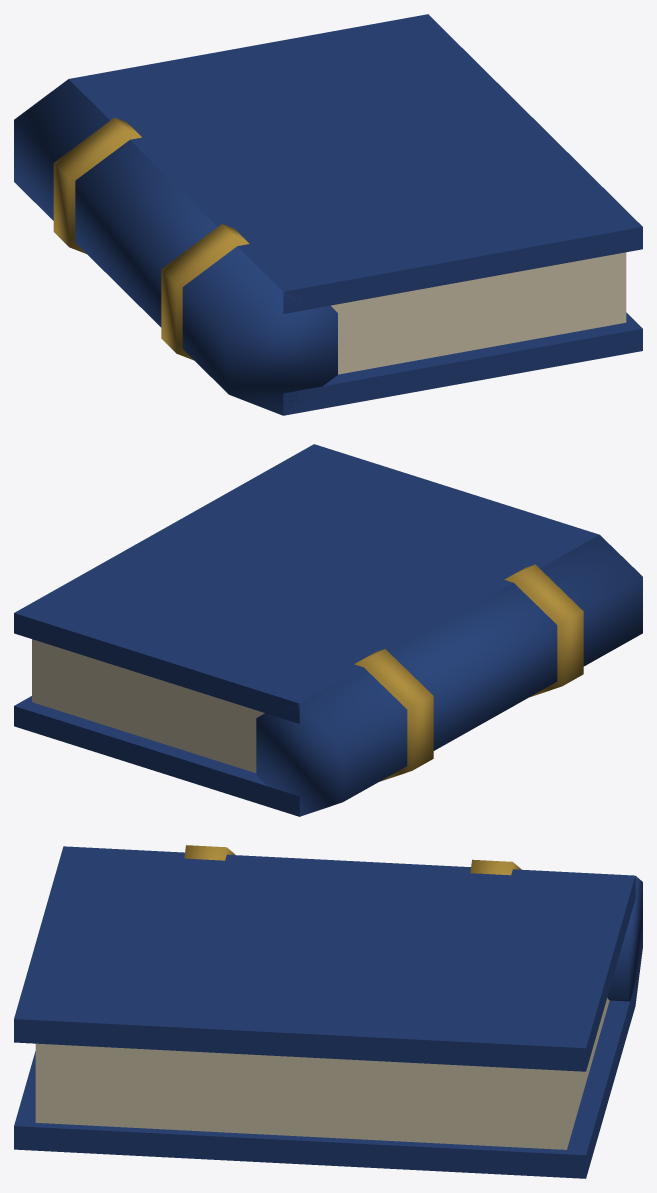
Rendered from book_v1.glb.
The picture shows the model from 3 angles, top to bottom: view 1: azimuth 30°, elevation 25°; view 2: azimuth 150°, elevation 25°; view 3: azimuth 270°, elevation 25°; orthographic projection. The views are drawn at different scales.
Visible parts, largest first — view 1: book_v1; view 2: book_v1; view 3: book_v1.
Boxes of the visible parts, x1,y1,x2,y2 form: book_v1: [14, 14, 642, 415]; book_v1: [14, 444, 642, 816]; book_v1: [14, 845, 642, 1178].
Bounding box in the file's own units: 0.2623 × 0.078 × 0.3056.
